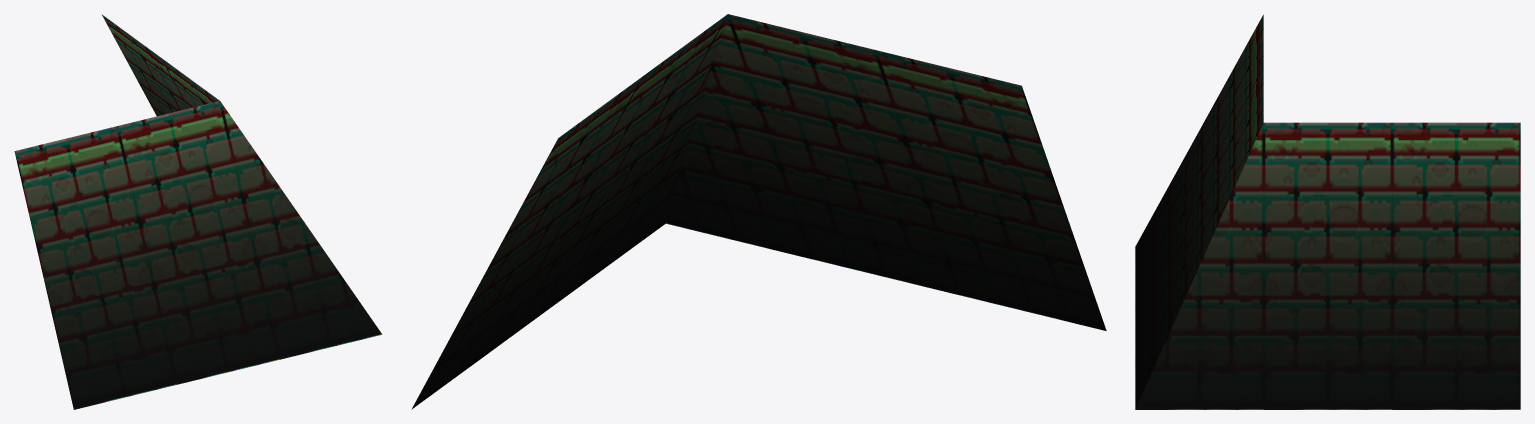
The model's file is arch_cathedral_wallBottom_cornerOut.FBX.
3 renders of one model, left to right at view 1: azimuth 30°, elevation 25°; view 2: azimuth 150°, elevation 25°; view 3: azimuth 270°, elevation 25°, orthographic. The views are drawn at different scales.
Parts seen in each view (by area): view 1: arch_cathedral_wallBottom_cornerOut; view 2: arch_cathedral_wallBottom_cornerOut; view 3: arch_cathedral_wallBottom_cornerOut.
Boxes of the visible parts, bbox=[...] form: arch_cathedral_wallBottom_cornerOut: bbox=[14, 14, 382, 409]; arch_cathedral_wallBottom_cornerOut: bbox=[411, 14, 1106, 409]; arch_cathedral_wallBottom_cornerOut: bbox=[1135, 14, 1520, 409].
Bounding box in the file's own units: 6 × 4 × 6.
Materials: 1 (1 with a texture image).
